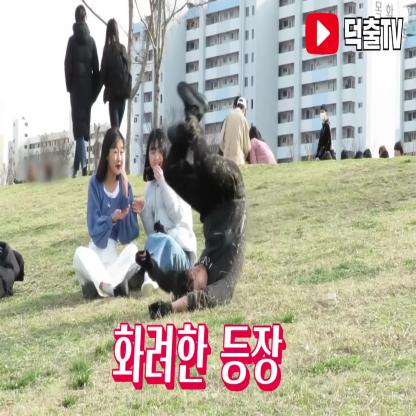Fall_Down: (134, 77, 248, 321)
